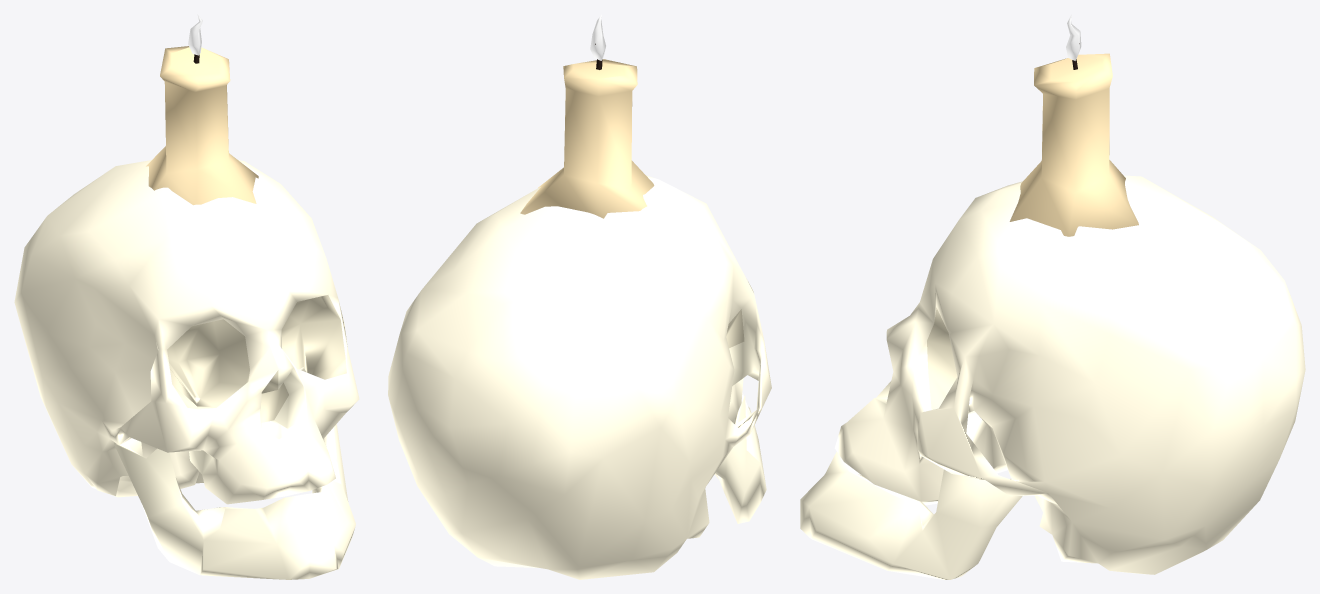
The model's file is CandleSkullShapeB.004.glb.
The picture shows the model from 3 angles, left to right: view 1: azimuth 30°, elevation 25°; view 2: azimuth 150°, elevation 25°; view 3: azimuth 270°, elevation 25°; orthographic projection. The views are drawn at different scales.
Parts seen in each view (by area): view 1: CandleSkullShapeB.004; view 2: CandleSkullShapeB.004; view 3: CandleSkullShapeB.004.
Boxes of the visible parts, box(x1,y1,x2,y2) form: CandleSkullShapeB.004: box(14, 14, 359, 579); CandleSkullShapeB.004: box(388, 14, 771, 579); CandleSkullShapeB.004: box(800, 14, 1305, 579).
Size of the model in its own units: 0.2005 by 0.3649 by 0.3132.
Materials: 2 (2 with a texture image).
